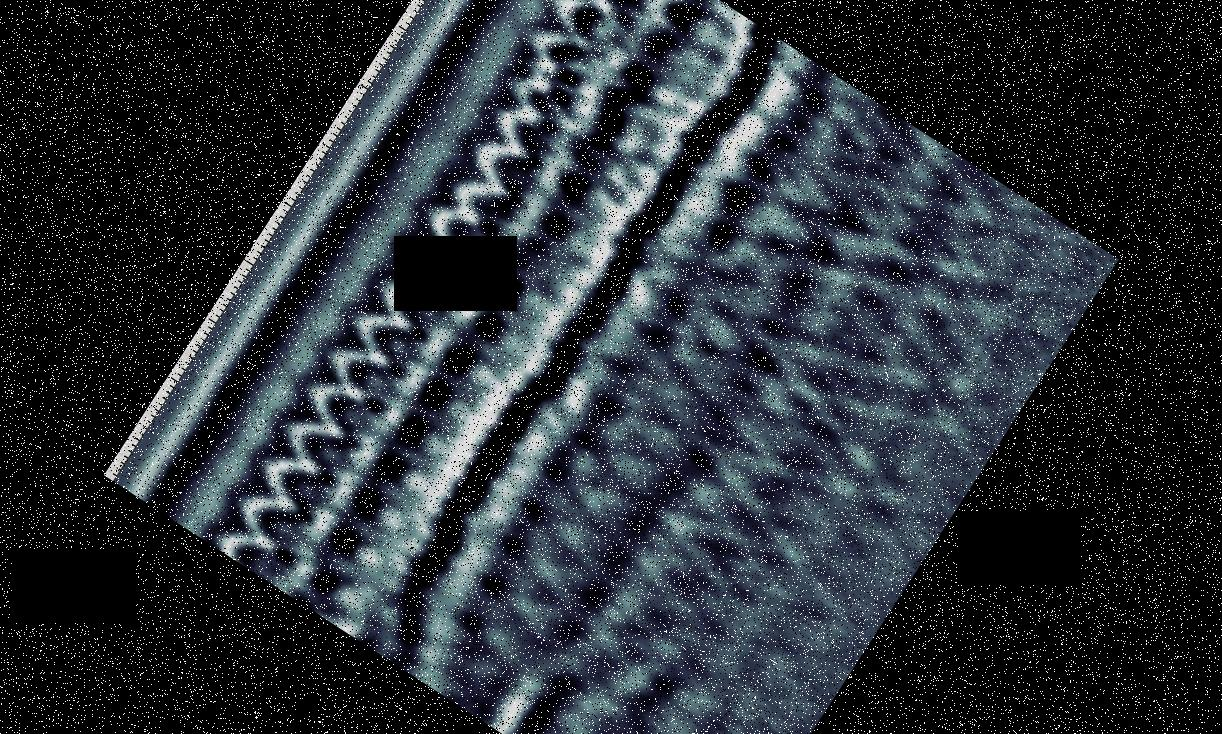Hyperbola: (262, 337, 414, 471), (428, 98, 569, 221), (329, 231, 465, 352), (262, 386, 395, 508), (231, 421, 361, 541), (296, 322, 428, 436), (359, 196, 486, 310), (421, 146, 542, 256), (200, 458, 320, 568), (328, 286, 447, 396), (464, 68, 582, 178), (393, 174, 505, 276), (489, 0, 600, 94), (205, 501, 310, 592), (494, 49, 587, 138), (506, 0, 630, 62), (542, 0, 657, 31)
